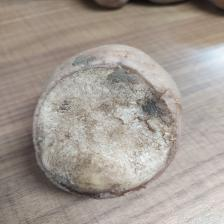Damaged potato: (26, 42, 187, 202)
